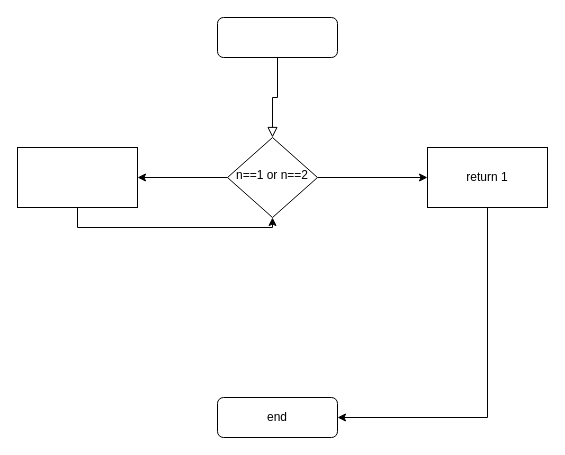
The diagram is 565 pixels wide and 455 high, and some of its shapes have lost their labels. The centre of each missing label's shape, as x and y in pixels:
"return fibonacci(n - 1) + fibonacci(n - 2)" goes at (x=77, y=177).
"start" goes at (x=277, y=37).
